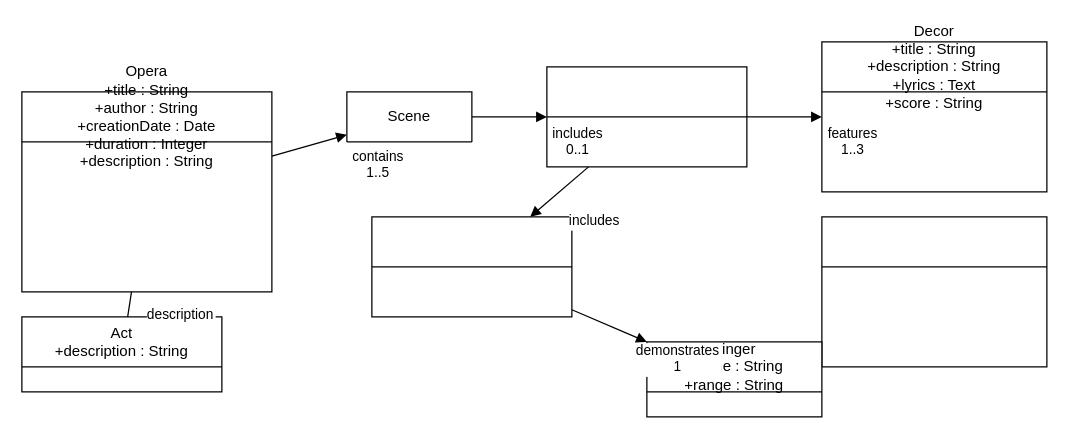
Some shapes in this 1069 by 439 pixel diagram are drawn without their labels. The shapes that lost their labels are listed below. From the top down, each one's centre as x and y in pixels, then its label:
point 646,116: Character +name : String +isMain : Boolean
point 471,266: Show +date : Date +location : String
point 934,291: Music +title : String +description : String +lyrics : Text +score : String
